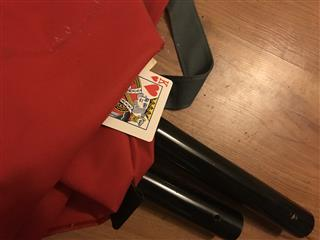KingOfHearts: (102, 68, 173, 141)
